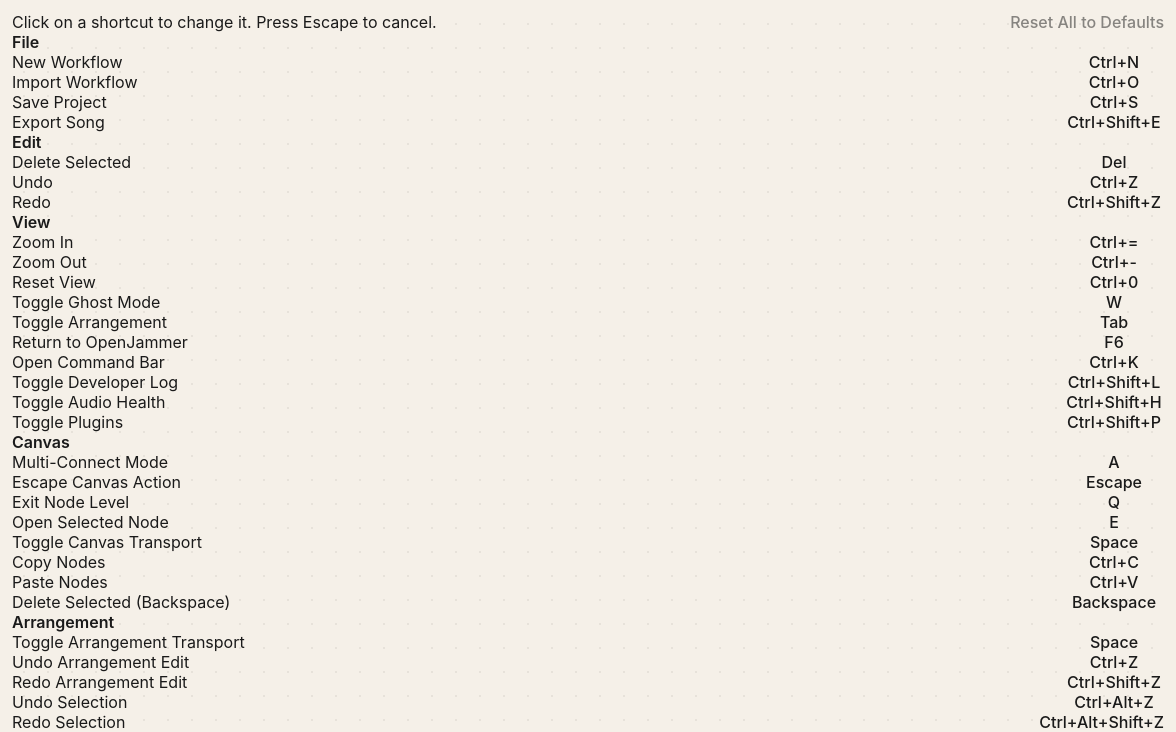
Test: KeybindingsPanel › editing mode › should enter editing mode when clicking a shortcut
Note: Find and click the Delete shortcut button
Click the button "Del" at (1114, 162), box left=1064, top=152, right=1164, bottom=172
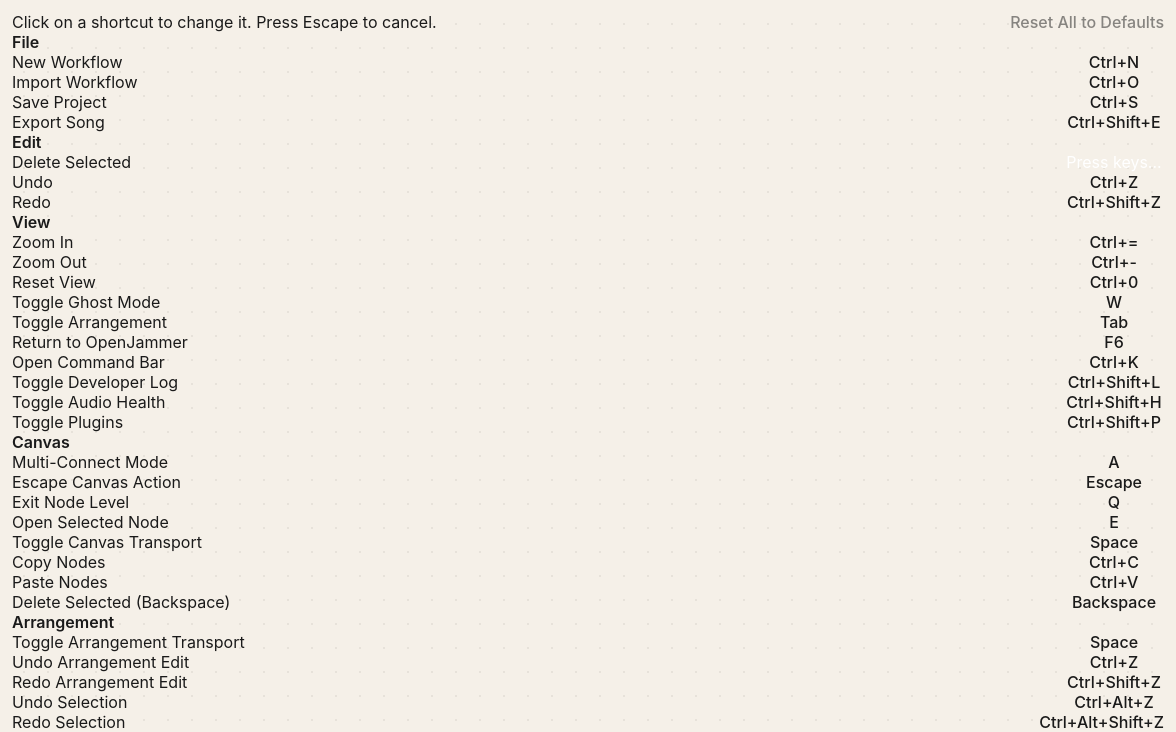
Expected: the text "Press keys..." is shown, left=1064, top=152, right=1164, bottom=172
